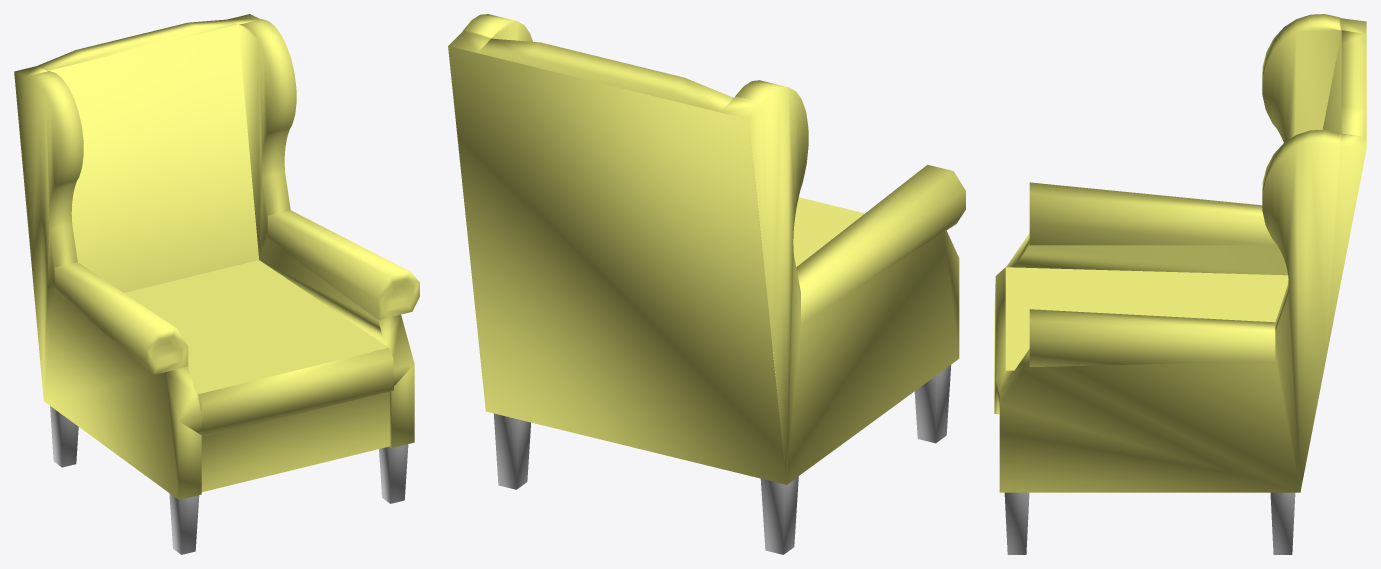
File: armchair_wing.obj
The picture shows the model from 3 angles, left to right: view 1: azimuth 30°, elevation 25°; view 2: azimuth 150°, elevation 25°; view 3: azimuth 270°, elevation 25°; orthographic projection. The views are drawn at different scales.
Visible parts, largest first — view 1: 1, 5, 7, 9, 3, 10, 2, 8, 6; view 2: 1, 7, 10, 4, 9; view 3: 1, 7, 5, 3, 4.
Boxes of the visible parts, bbox=[...] form: 1: bbox=[14, 14, 414, 499]; 5: bbox=[268, 210, 419, 319]; 7: bbox=[55, 262, 188, 374]; 9: bbox=[169, 493, 199, 554]; 3: bbox=[379, 444, 408, 503]; 10: bbox=[50, 406, 78, 467]; 2: bbox=[48, 24, 237, 70]; 8: bbox=[153, 336, 181, 366]; 6: bbox=[385, 279, 413, 311]; 1: bbox=[448, 14, 959, 484]; 7: bbox=[796, 164, 965, 323]; 10: bbox=[760, 476, 798, 554]; 4: bbox=[493, 413, 530, 489]; 9: bbox=[914, 365, 951, 443]; 1: bbox=[994, 14, 1366, 492]; 7: bbox=[1029, 182, 1275, 245]; 5: bbox=[1029, 309, 1275, 367]; 3: bbox=[1004, 492, 1029, 554]; 4: bbox=[1270, 492, 1295, 554].
Size of the model in its own units: 85 by 112 by 90.
